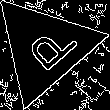P_SW: (13, 18, 77, 79)
